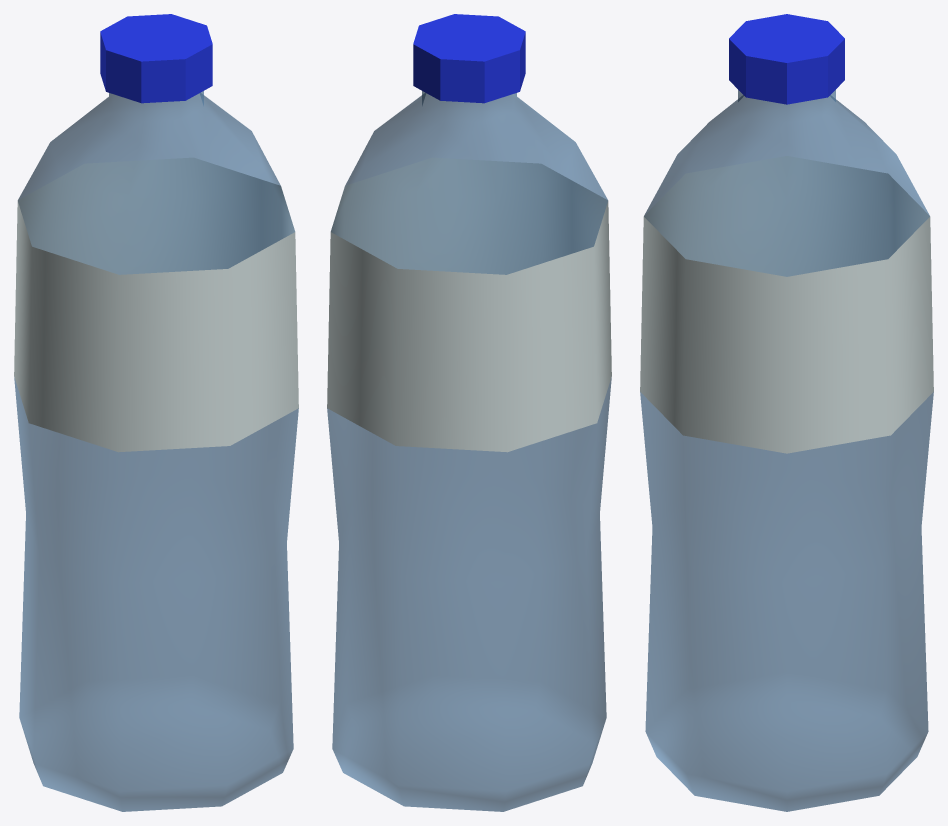
The model's file is AntonioCenarioFase1.fbx_GarrafaPet.fbx.
The picture shows the model from 3 angles, left to right: view 1: azimuth 30°, elevation 25°; view 2: azimuth 150°, elevation 25°; view 3: azimuth 270°, elevation 25°; orthographic projection.
Visible parts, largest first — view 1: GarrafaPet; view 2: GarrafaPet; view 3: GarrafaPet.
Boxes of the visible parts, bbox=[...] form: GarrafaPet: bbox=[14, 14, 298, 811]; GarrafaPet: bbox=[327, 14, 611, 811]; GarrafaPet: bbox=[640, 14, 933, 811].
Size of the model in its own units: 101 by 271 by 101.
